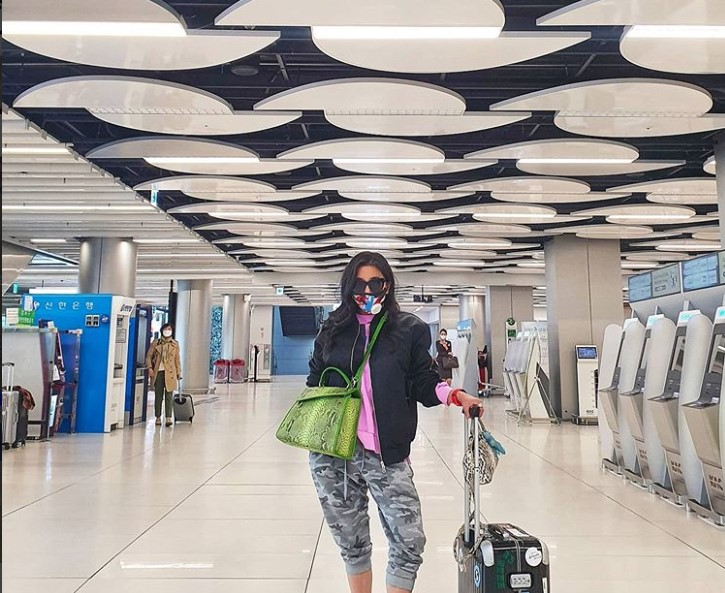face_with_mask: (331, 253, 391, 321), (158, 323, 174, 339), (441, 330, 448, 340)
